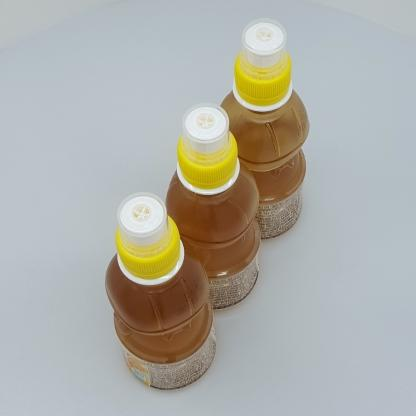--------220ML: (103, 190, 217, 391), (164, 101, 261, 312)
